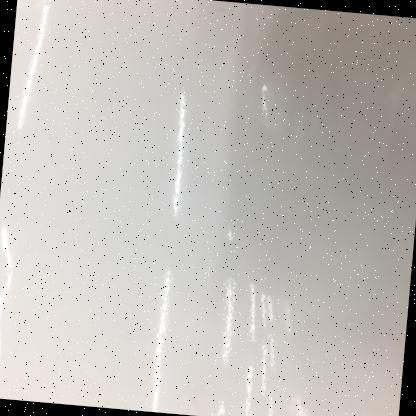Nocrack: (0, 2, 401, 413)
